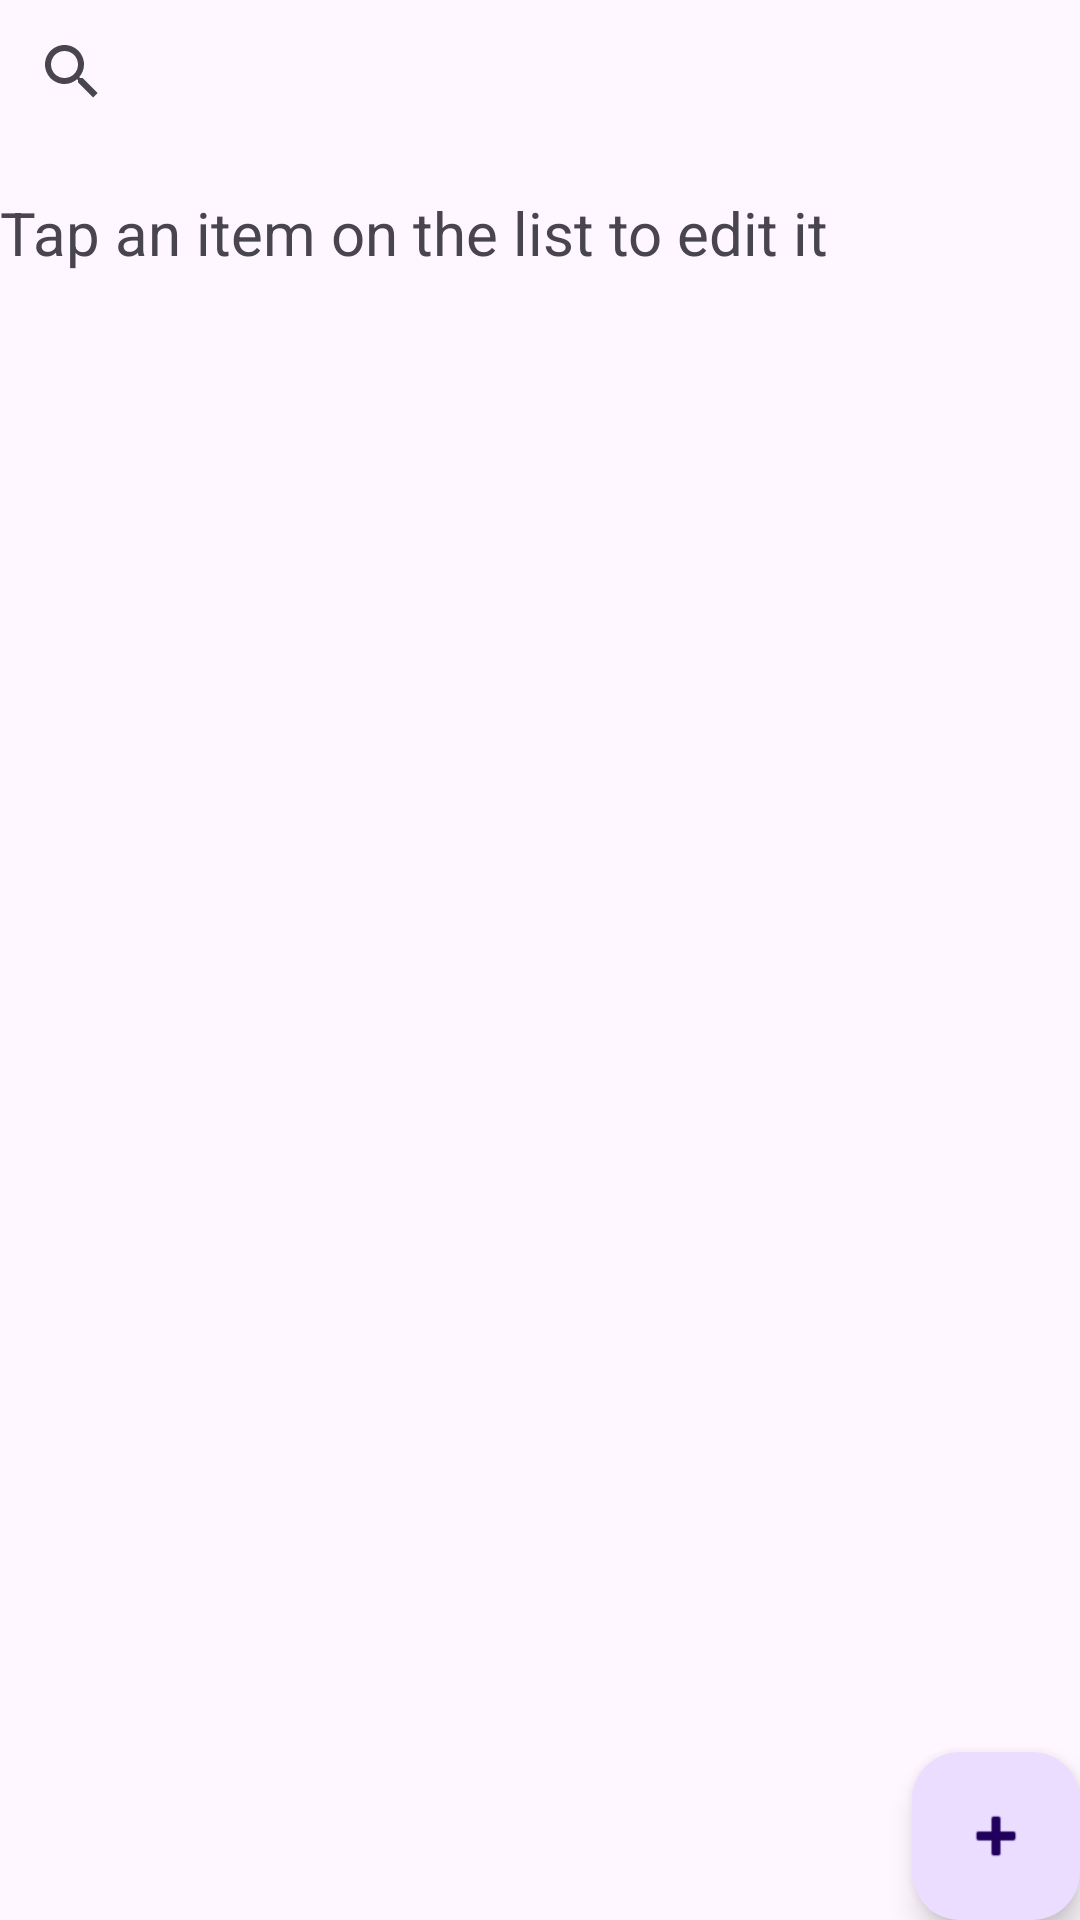

Icons on this 1080w x 1920h Android screen, each with its box as {"x1": x1, "y1": y1, "x2": x2, "y2": y2}:
Add a new shopping item: {"x1": 912, "y1": 1752, "x2": 1080, "y2": 1920}
